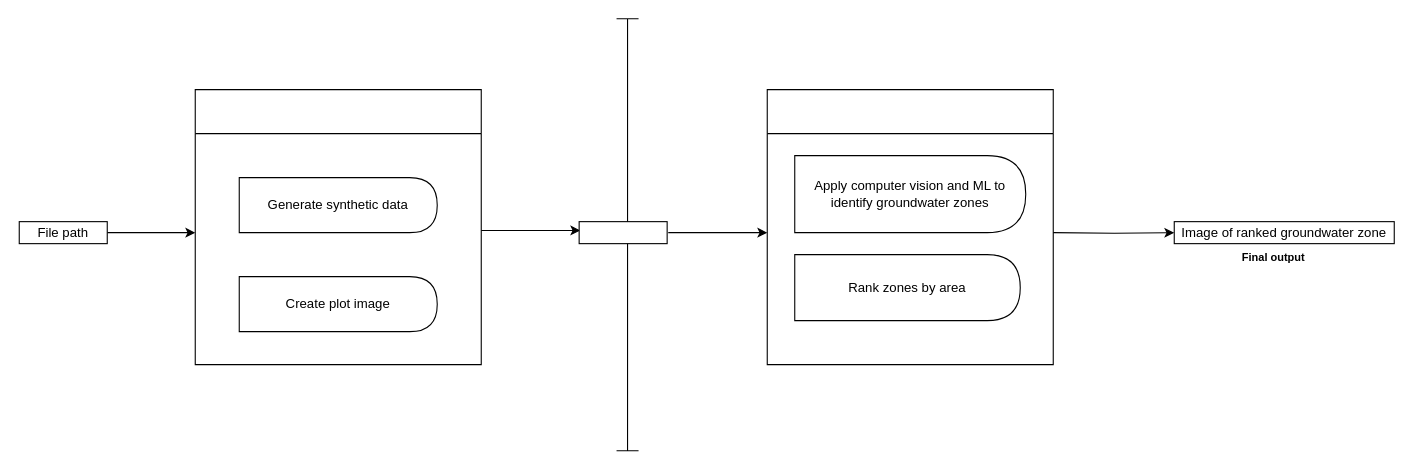
Some shapes in this 1414 by 471 pixel diagram are drawn without their labels. Each missing label, with the box of its shape:
Data generation and visualisation: (194, 89, 481, 365)
Groundwater detection and analysis: (766, 89, 1053, 365)
Image plotted: (578, 221, 667, 244)
